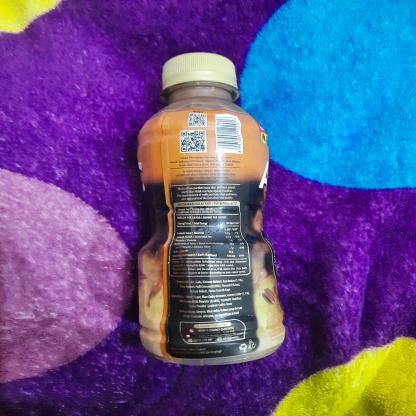plastic: (132, 49, 290, 367)
